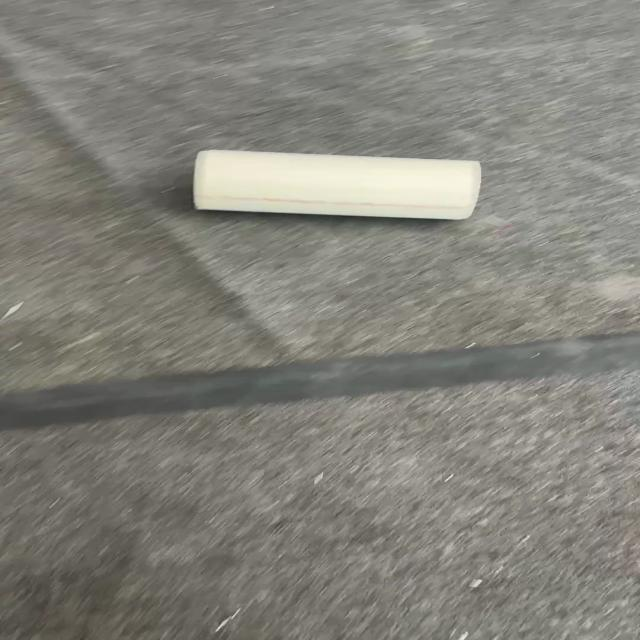Coral: (191, 147, 482, 220)
